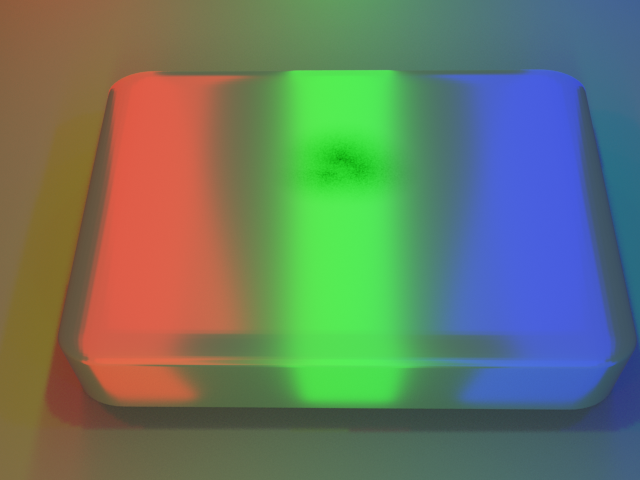stain: (247, 103, 440, 208)
